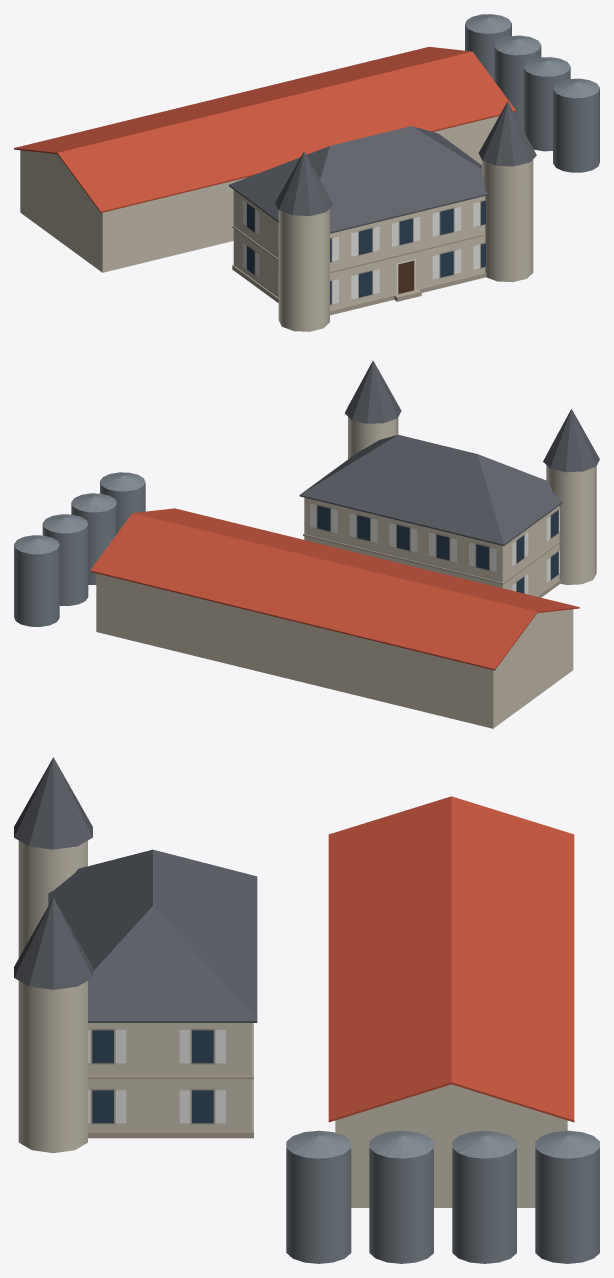
The model's file is chai.glb.
3 views of the same model, one above another, from view 1: azimuth 30°, elevation 25°; view 2: azimuth 150°, elevation 25°; view 3: azimuth 270°, elevation 25° (orthographic). The views are drawn at different scales.
Visible parts, largest first — view 1: chai; view 2: chai; view 3: chai.
Part boxes in pixels (x1=…): chai: x1=14, y1=14, x2=599, y2=331; chai: x1=14, y1=360, x2=599, y2=728; chai: x1=14, y1=757, x2=599, y2=1263.
Size of the model in its own units: 48.4 by 16 by 35.33.
1 material, 1 textured.
